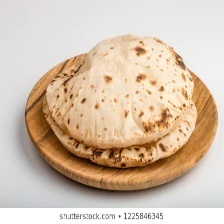roti: (41, 34, 197, 169)
